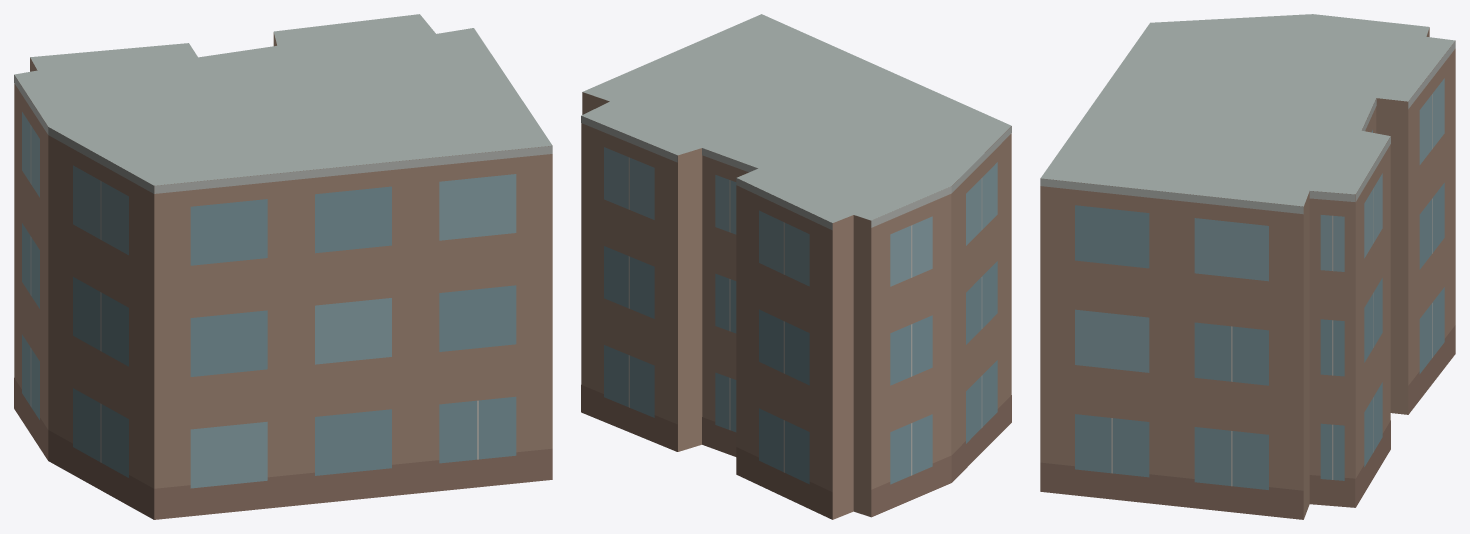
The model's file is survey-upis-32634777.glb.
3 renders of one model, left to right at view 1: azimuth 30°, elevation 25°; view 2: azimuth 150°, elevation 25°; view 3: azimuth 270°, elevation 25°, orthographic. The views are drawn at different scales.
Parts seen in each view (by area): view 1: survey-upis-32634777.tmp; view 2: survey-upis-32634777.tmp; view 3: survey-upis-32634777.tmp.
Boxes of the visible parts, <box> form: survey-upis-32634777.tmp: <box>14,14,552,519</box>; survey-upis-32634777.tmp: <box>581,14,1011,519</box>; survey-upis-32634777.tmp: <box>1040,14,1455,519</box>.
Size of the model in its own units: 13.06 by 9.9 by 11.9.
